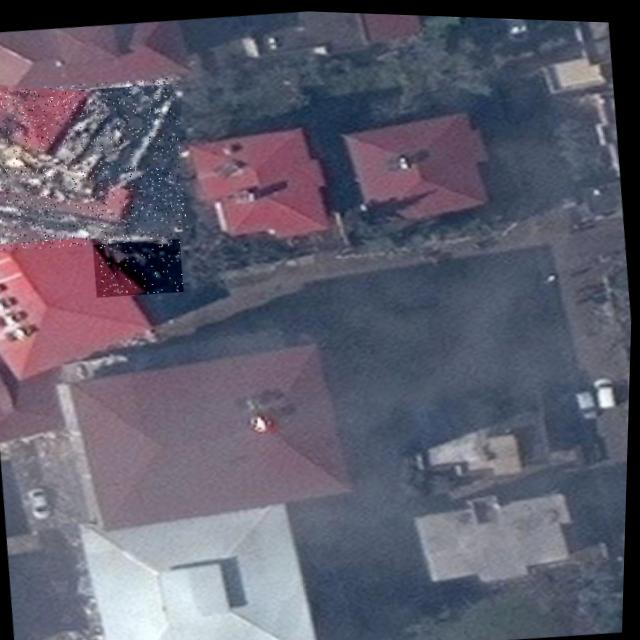Rubble: (0, 71, 192, 258), (82, 136, 187, 299), (0, 100, 113, 215)
